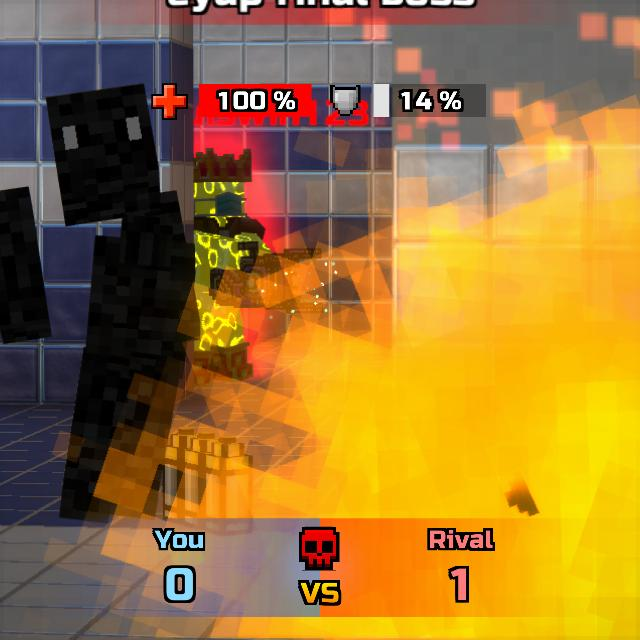Enemy: (197, 158, 280, 404)
